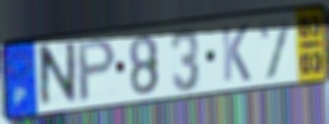3: (169, 25, 200, 94)
7: (259, 16, 293, 82)
8: (127, 33, 161, 97)
K: (220, 22, 253, 84)
N: (38, 38, 79, 113)
P: (76, 36, 119, 106)
